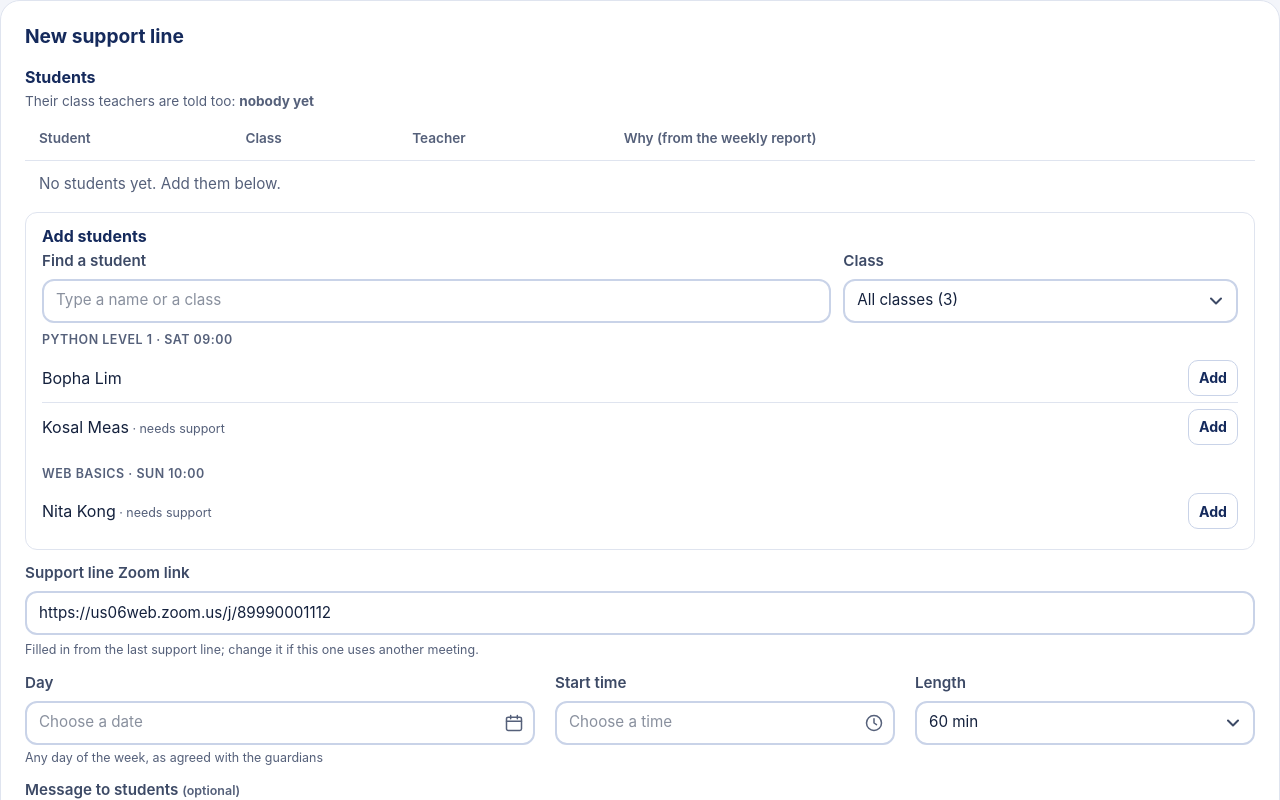
Test: SupportLineForm › finds a student by part of their name, in any case, or by their class
This screenshot has width=1280, height=800.
In the search field labelled "Find a student": (437, 301) [42,279,831,323], type "kos"
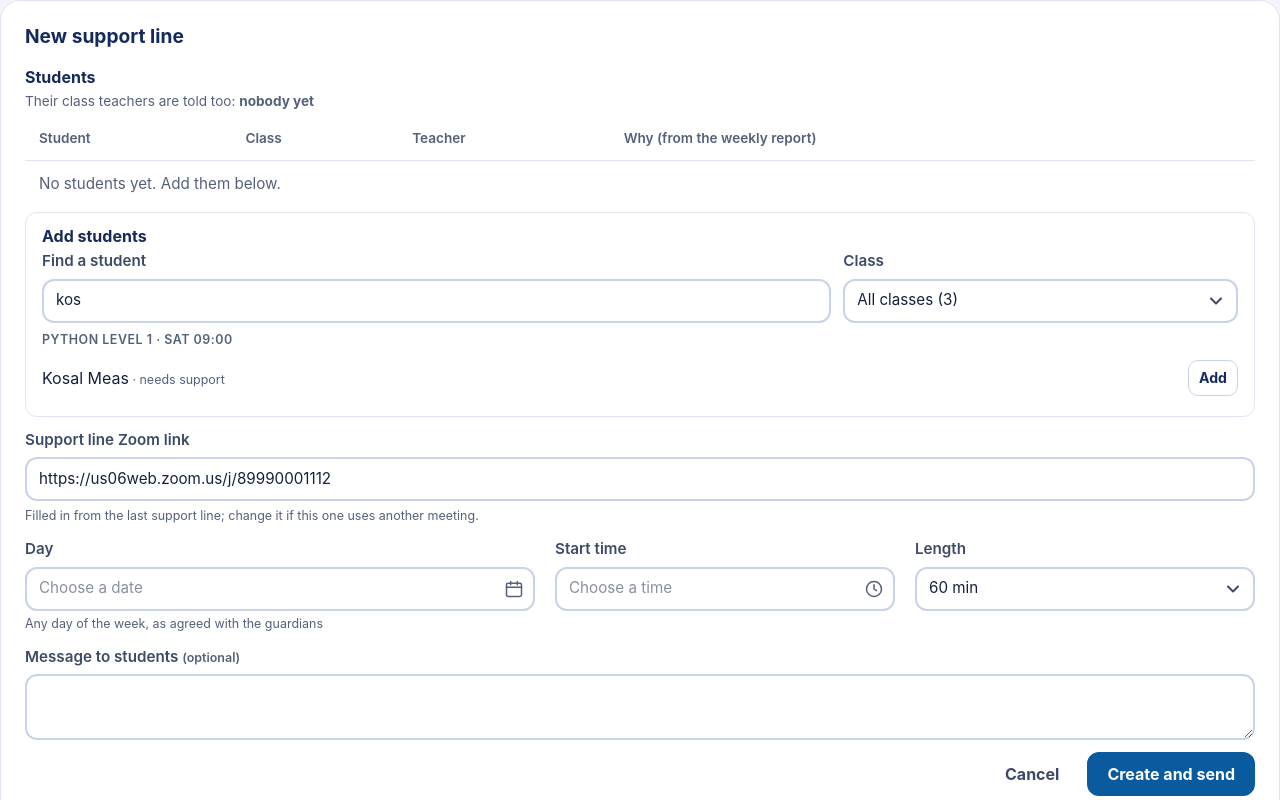
Replace the text in the search field labelled "Find a student" with "web": (437, 301) [42,279,831,323]
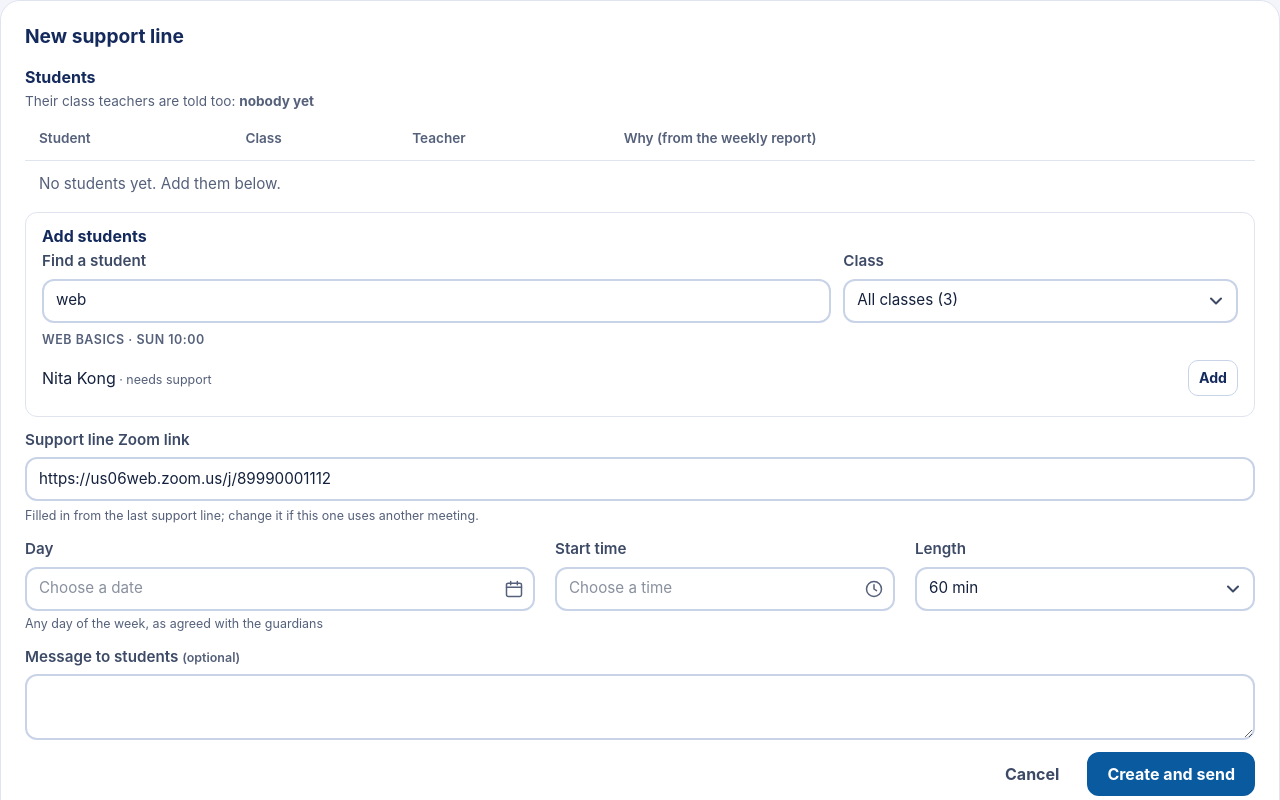
Replace the text in the search field labelled "Find a student" with "zzz": (437, 301) [42,279,831,323]
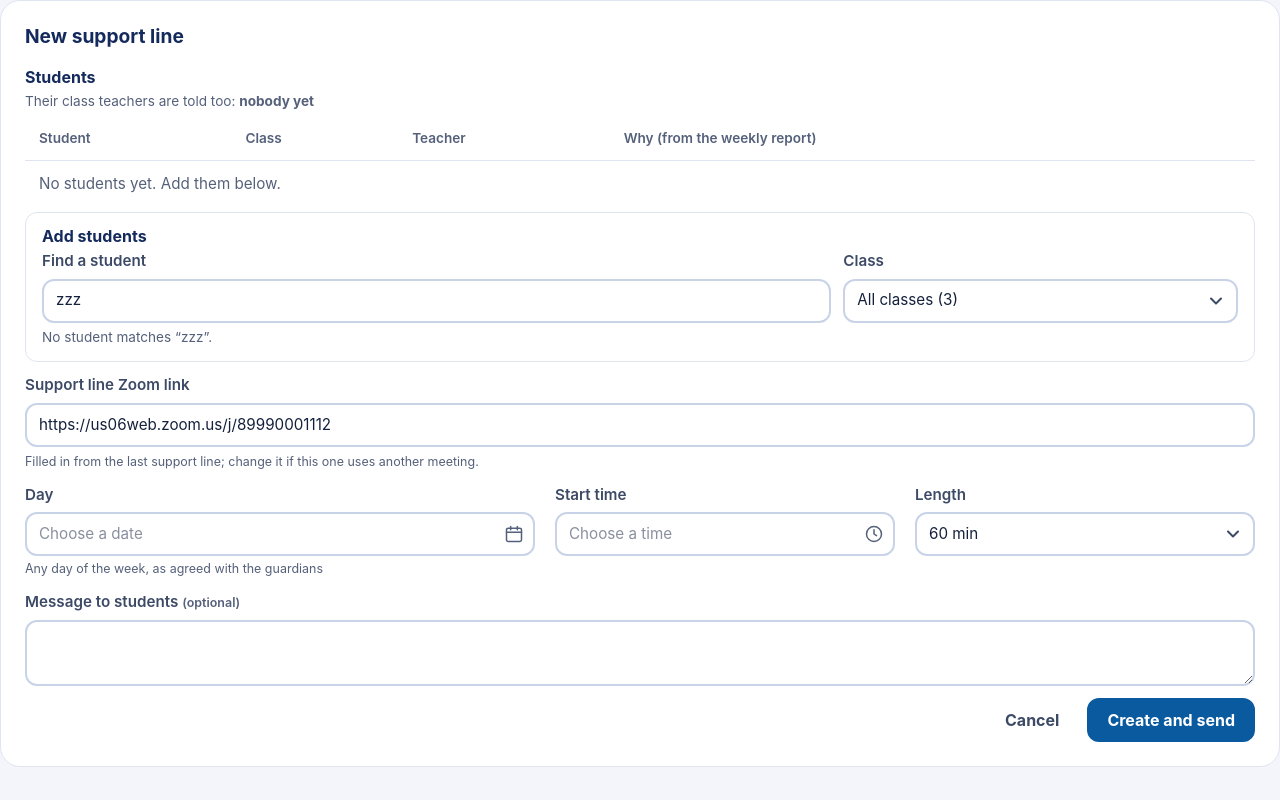
Now the text "No student matches “zzz”." is shown, box [42,329,212,345]
